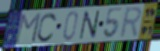0: (62, 10, 80, 42)
5: (102, 6, 124, 40)
C: (36, 11, 59, 43)
M: (13, 12, 43, 46)
N: (78, 10, 101, 41)
R: (118, 5, 143, 40)
